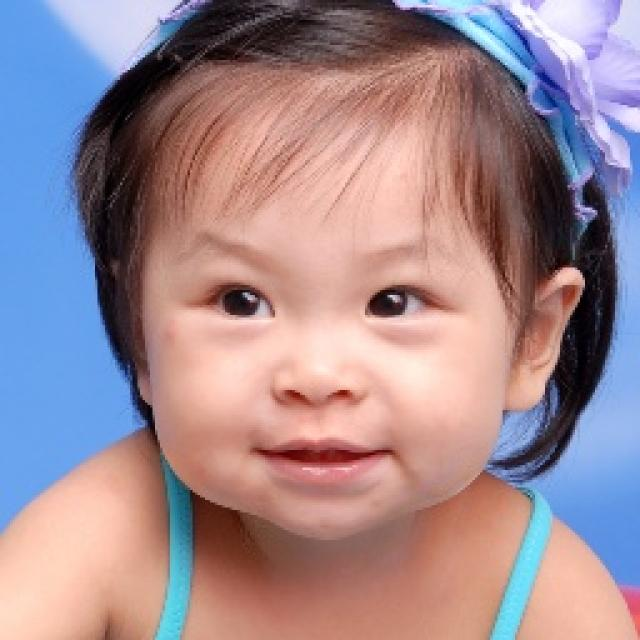earlobe: (501, 374, 548, 416), (123, 366, 157, 408)
eye: (361, 281, 448, 329), (201, 281, 275, 327)
nose: (276, 386, 371, 432)
wholeear: (503, 266, 589, 416), (107, 256, 154, 405)
